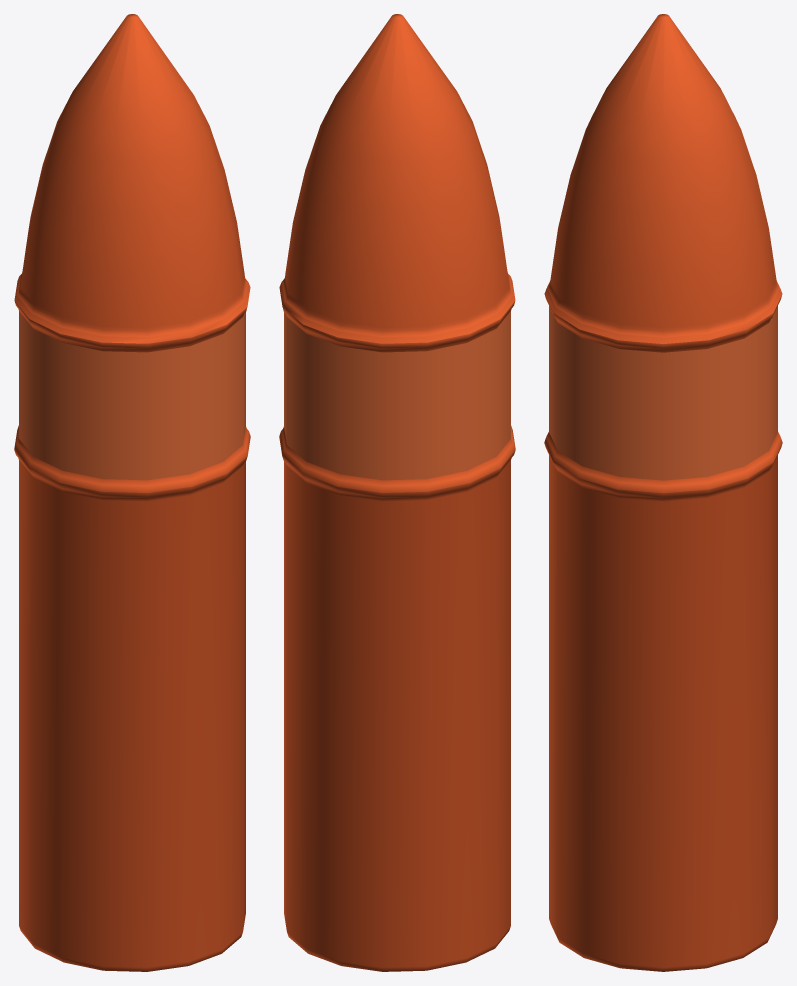
File: TankV3.fbx
3 views of the same model, side by side, from view 1: azimuth 30°, elevation 25°; view 2: azimuth 150°, elevation 25°; view 3: azimuth 270°, elevation 25° (orthographic).
Parts seen in each view (by area): view 1: Cylinder.007, Cylinder.008; view 2: Cylinder.007, Cylinder.008; view 3: Cylinder.007, Cylinder.008.
Part boxes in pixels (x1,y1,x2,y2): Cylinder.007: [14, 14, 250, 971]; Cylinder.008: [19, 311, 245, 480]; Cylinder.007: [279, 14, 515, 971]; Cylinder.008: [284, 311, 510, 480]; Cylinder.007: [544, 14, 782, 971]; Cylinder.008: [549, 306, 777, 480].
Size of the model in its own units: 358 by 1505 by 358.
